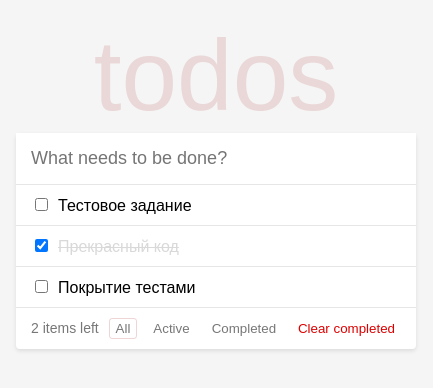
ToDo App › adds a new task when Enter is pressed
// Ввести текст в поле
In the field with placeholder "What needs to be done?": (216, 158) x1=16 y1=132 x2=416 y2=184, type "New Task"
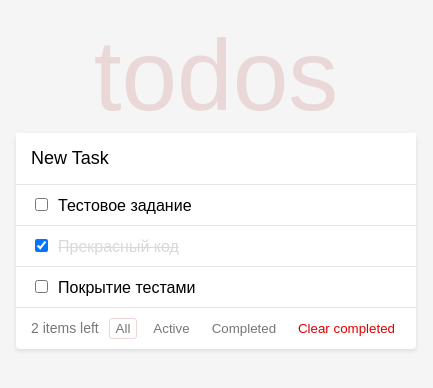
// Нажать клавишу Enter
Press Enter in the field with placeholder "What needs to be done?", box x1=16 y1=132 x2=416 y2=184
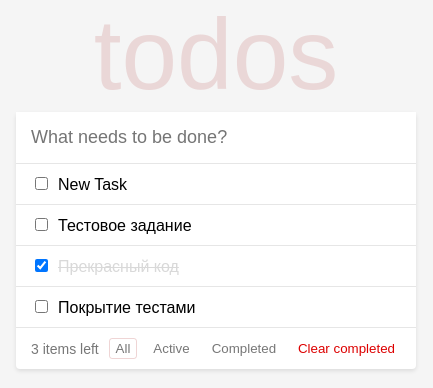
Now the text "New Task" is shown, box x1=58 y1=176 x2=127 y2=193
